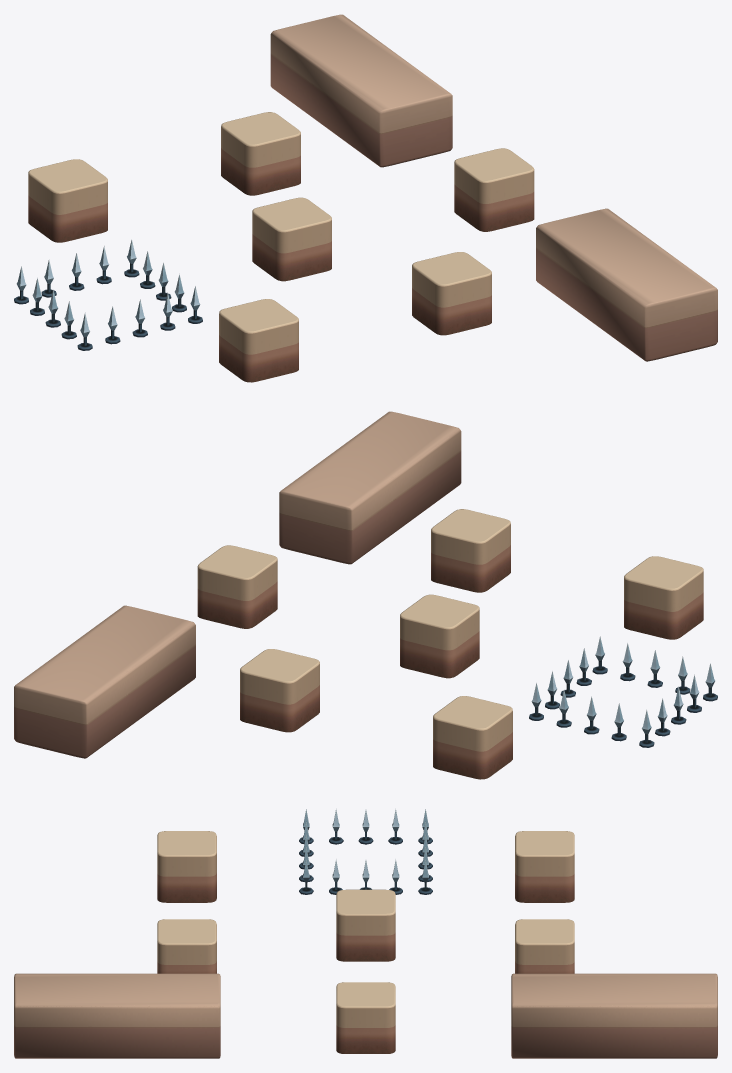
Rendered from Props.fbx.
3 renders of one model, top to bottom at view 1: azimuth 30°, elevation 25°; view 2: azimuth 150°, elevation 25°; view 3: azimuth 270°, elevation 25°, orthographic. The views are drawn at different scales.
Parts seen in each view (by area): view 1: Box01 (×6), Box20-2 (3), Box20-2 (2); view 2: Box01 (×6), Box20-2 (2), Box20-2 (3); view 3: Box01 (×6), Box20-2 (2), Box20-2 (3).
Boxes of the visible parts, x1,y1,x2,y2 form: Box01 (×6): (28, 112, 534, 382); Box20-2 (3): (270, 14, 452, 167); Box20-2 (2): (536, 208, 717, 361); Box01 (×6): (197, 509, 703, 779); Box20-2 (2): (279, 411, 461, 564); Box20-2 (3): (14, 605, 195, 758); Box01 (×6): (157, 831, 574, 1053); Box20-2 (2): (14, 973, 220, 1058); Box20-2 (3): (511, 973, 717, 1058).
Bounding box in the file's own units: 26.37 × 3 × 35.4.
